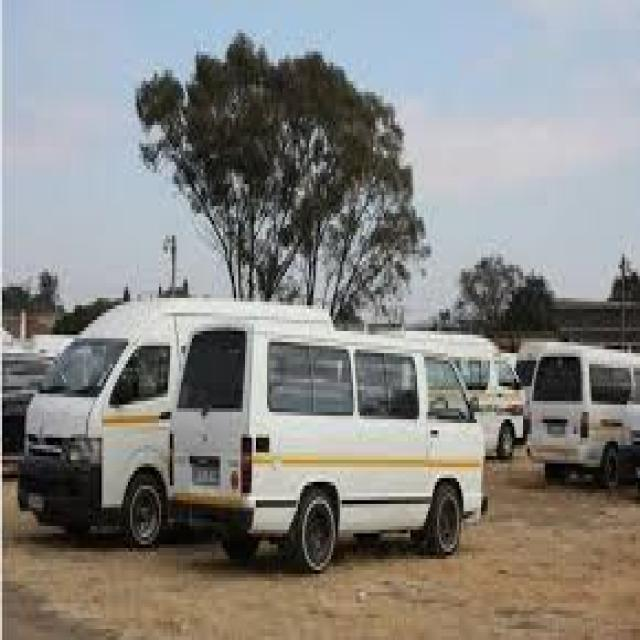MiniBus taxi: (168, 346, 490, 563), (18, 287, 178, 555), (527, 331, 638, 486)
